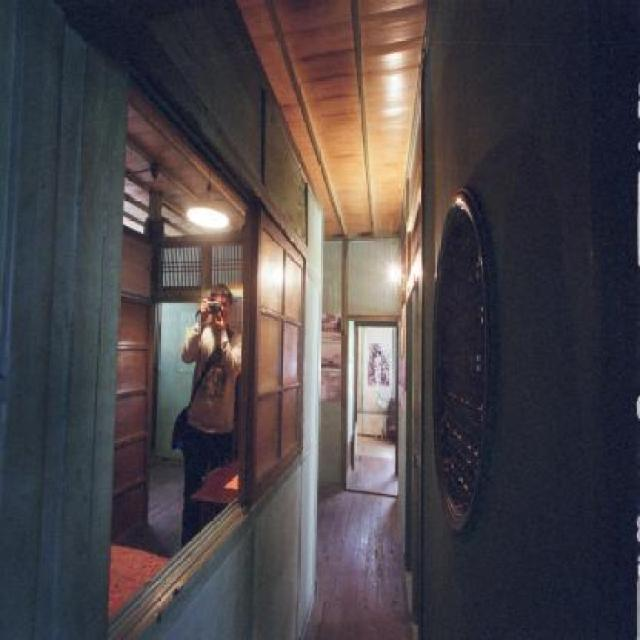Person: (179, 280, 244, 558)
